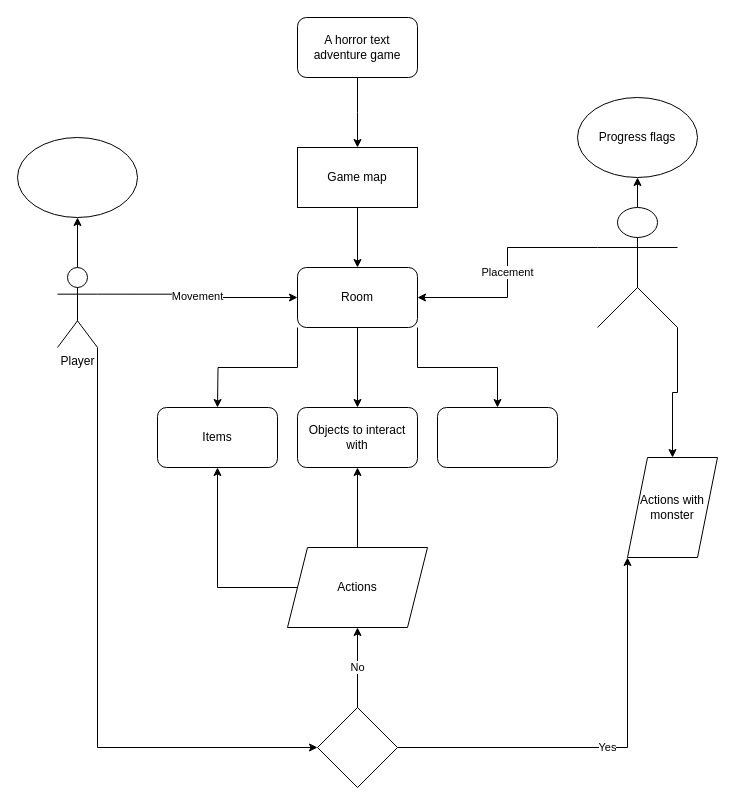
Image size: 735x805. Some labels were removed from this diagram. Each missing label, with the centre of its shape:
"Description" goes at (497,437).
"If monster in room" goes at (357,747).
"Inventory" goes at (77,177).
"Monster" goes at (637,267).
